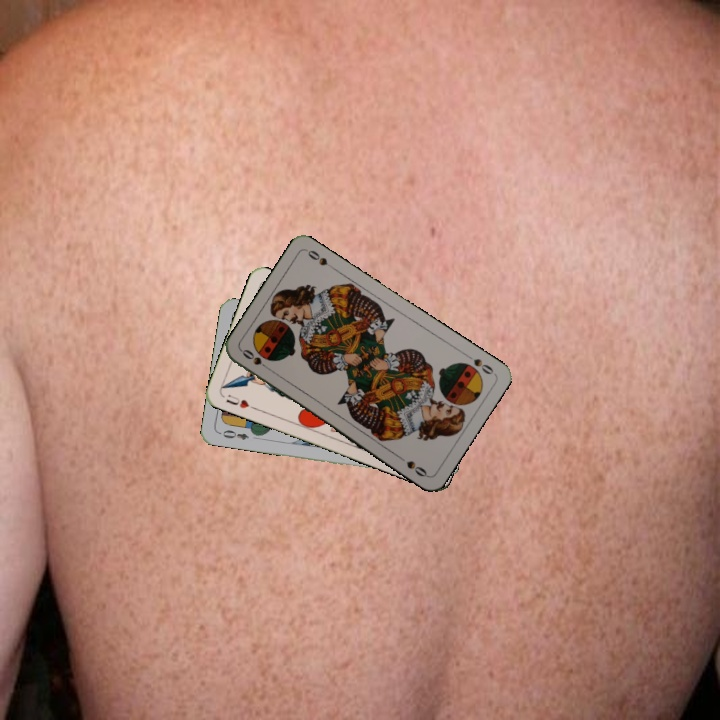EO: (215, 426, 251, 443)
HU: (222, 390, 259, 412)
SO: (238, 345, 274, 374), (461, 350, 496, 377)
